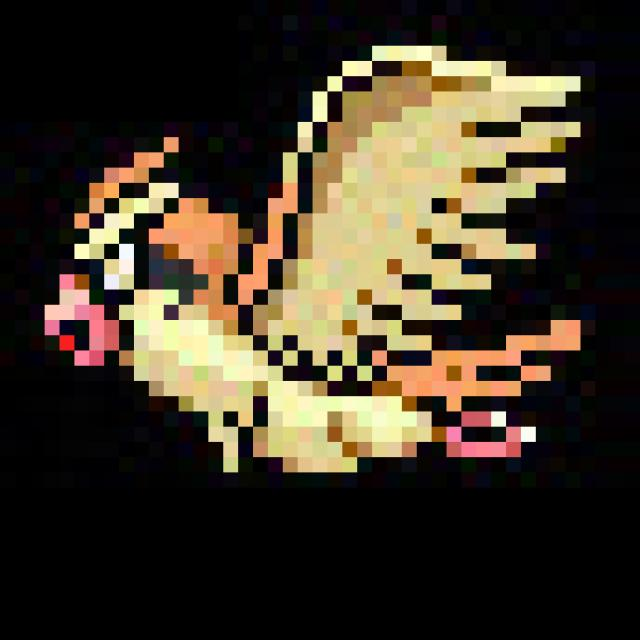Pidgey: (54, 50, 567, 473)
